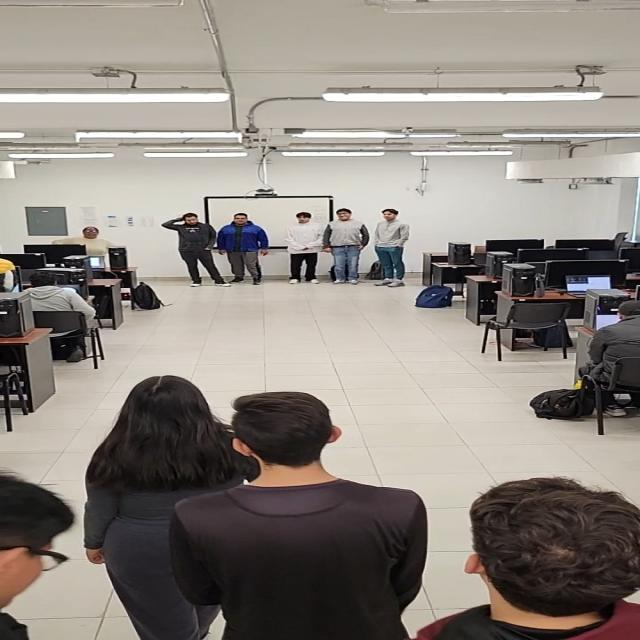Persona: (168, 392, 428, 640), (85, 374, 264, 640), (412, 474, 640, 640), (0, 473, 78, 640), (160, 213, 232, 287), (322, 208, 372, 285), (215, 213, 268, 285), (372, 207, 410, 288), (283, 212, 325, 284)
